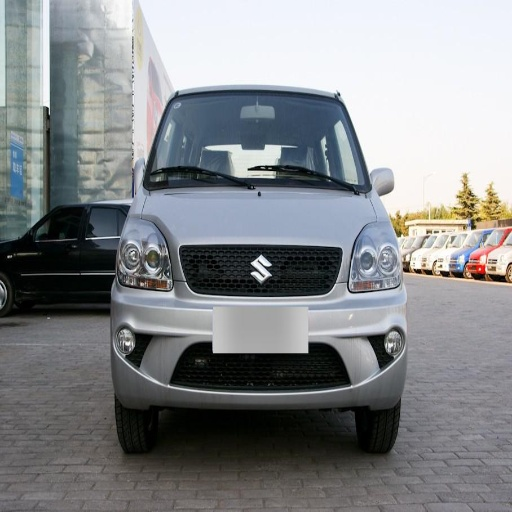front_bumper: (113, 238, 402, 409)
front_glass: (144, 91, 367, 189)
front_right_light: (118, 215, 173, 290)
hood: (145, 189, 378, 246)
